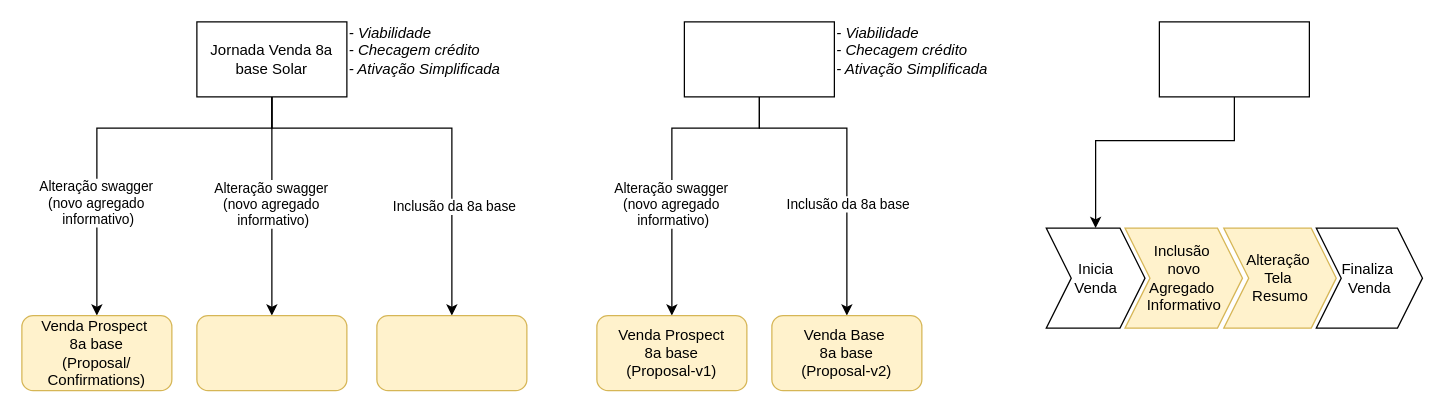
Image size: 1445x413. Some labels were removed from this diagram. The box of each missing label's shape, as (x1, y1, x2, y2) in pixels:
Cancelamento 8a base ( residential-nba-customerorders-v1 ): (376, 314, 527, 391)
Jornada Venda Digital/e-Commerce: (683, 21, 834, 97)
Jornada Venda NETSales - Prospect/Base: (1158, 21, 1309, 97)
Venda Base 8a base (ProposalSubscriber): (196, 314, 347, 391)
